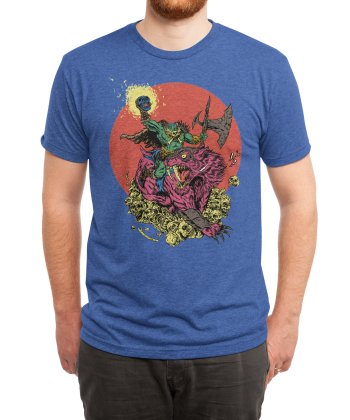design: (104, 77, 247, 249)
